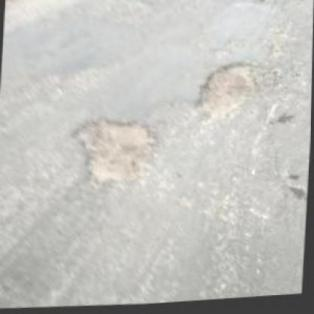Hueco: (66, 111, 164, 192), (191, 59, 272, 132)
